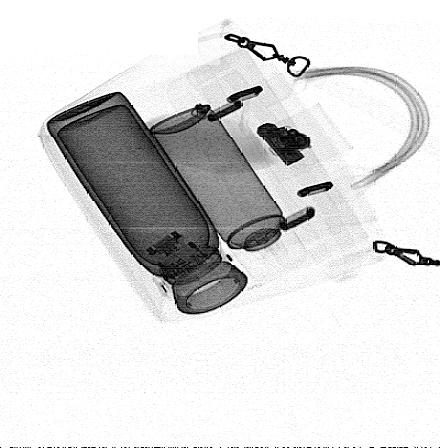Sprayer: (151, 105, 307, 280)
